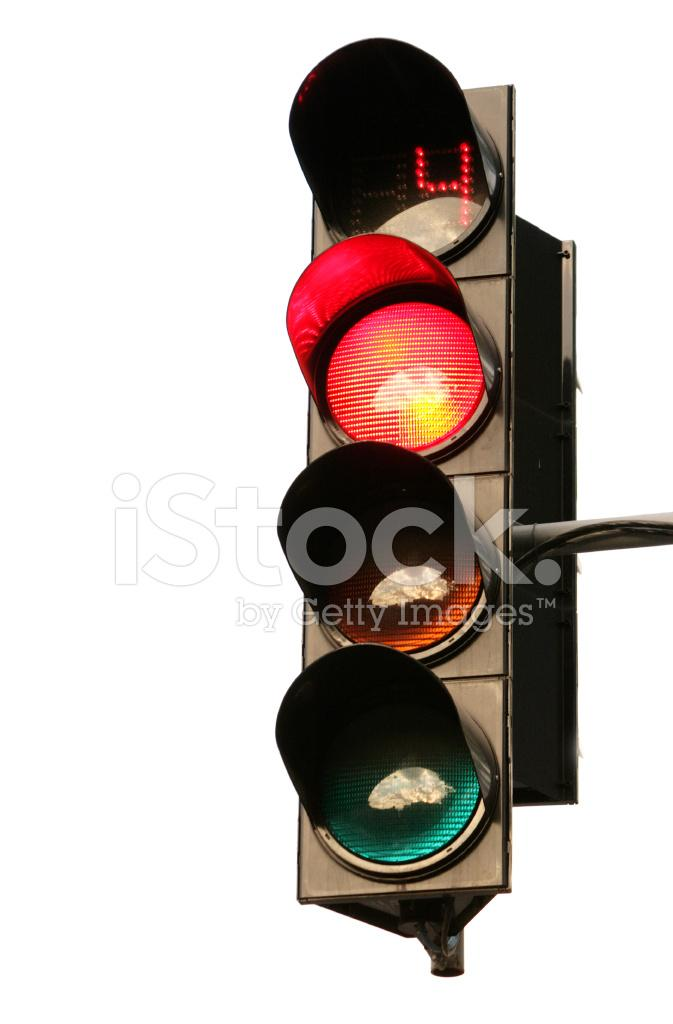red: (243, 52, 548, 975)
